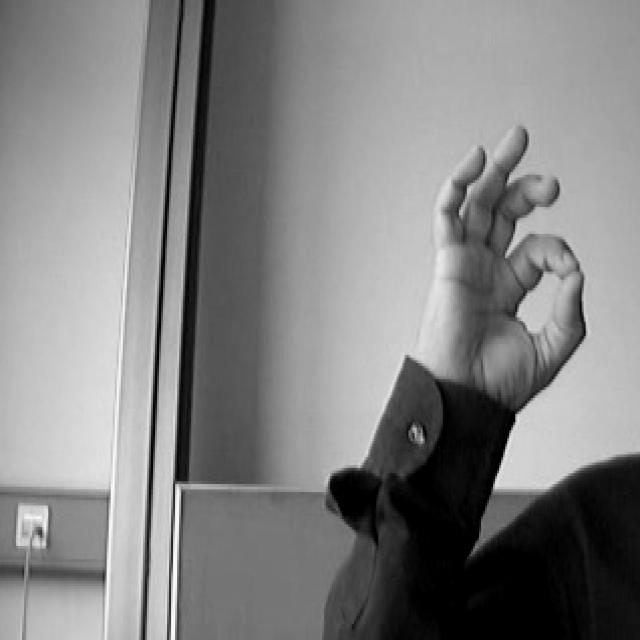F: (385, 115, 595, 418)
